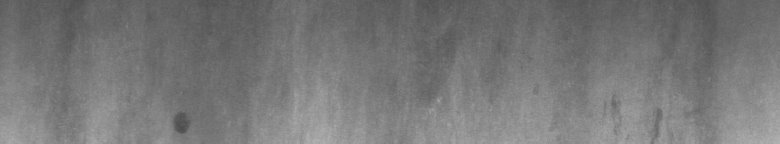fi: (167, 108, 192, 136)
